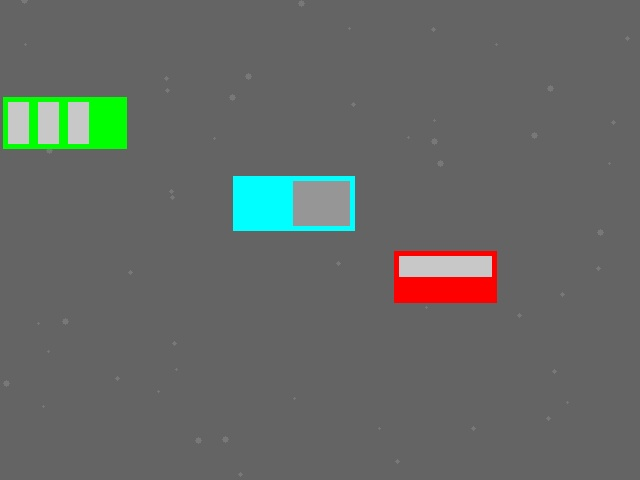bus: (3, 97, 126, 148)
car: (394, 251, 496, 302)
truck: (233, 176, 354, 230)
